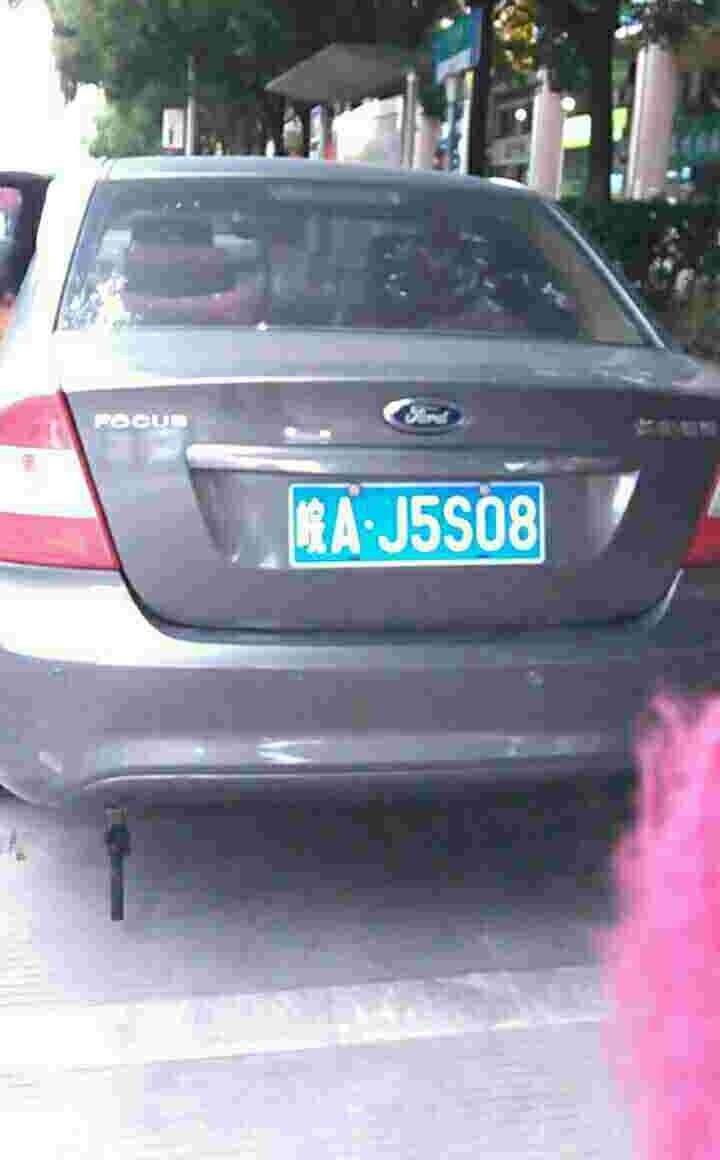license_plate: (286, 485, 547, 549)
